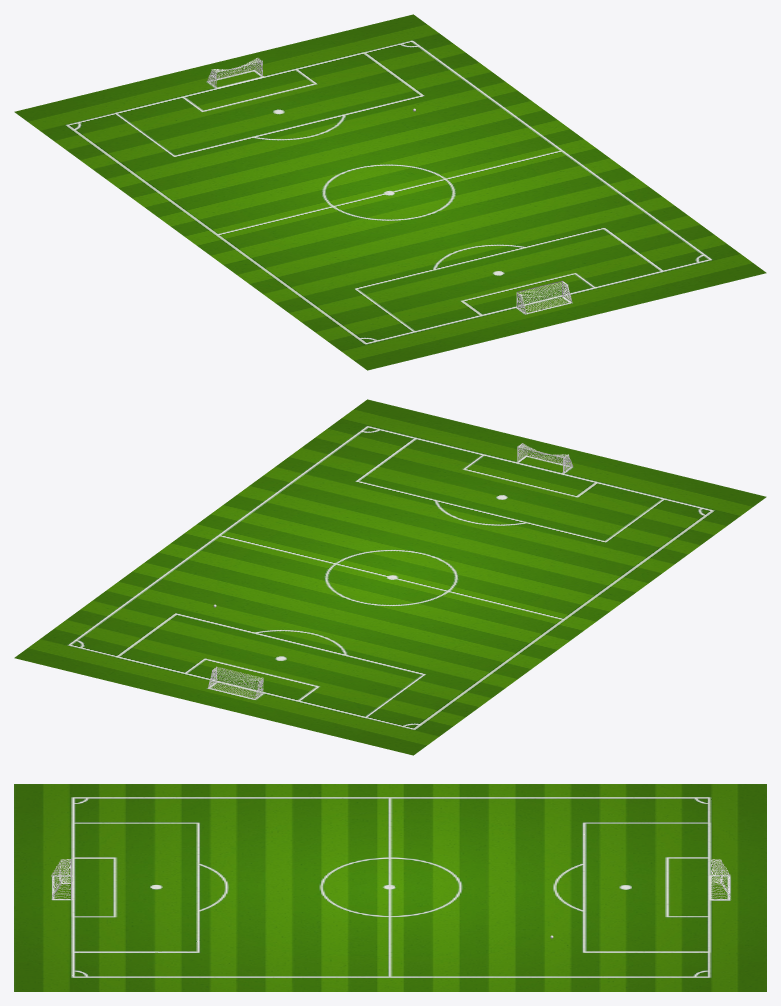
Rendered from footballpath.glb.
3 views of the same model, one above another, from view 1: azimuth 30°, elevation 25°; view 2: azimuth 150°, elevation 25°; view 3: azimuth 270°, elevation 25° (orthographic). The views are drawn at different scales.
Parts seen in each view (by area): view 1: soccer field background 1003, Net_0; view 2: soccer field background 1003, Net_0.001; view 3: soccer field background 1003, Net_0, Net_0.001.
Part boxes in pixels (x1=…): soccer field background 1003: x1=14, y1=14, x2=766, y2=370; Net_0: x1=516, y1=281, x2=572, y2=314; soccer field background 1003: x1=14, y1=399, x2=766, y2=755; Net_0.001: x1=207, y1=666, x2=263, y2=699; soccer field background 1003: x1=14, y1=784, x2=766, y2=991; Net_0: x1=51, y1=859, x2=70, y2=899; Net_0.001: x1=711, y1=859, x2=730, y2=899.
Bounding box in the file's own units: 1 × 0.0404 × 1.53.
3 materials, 1 textured.
